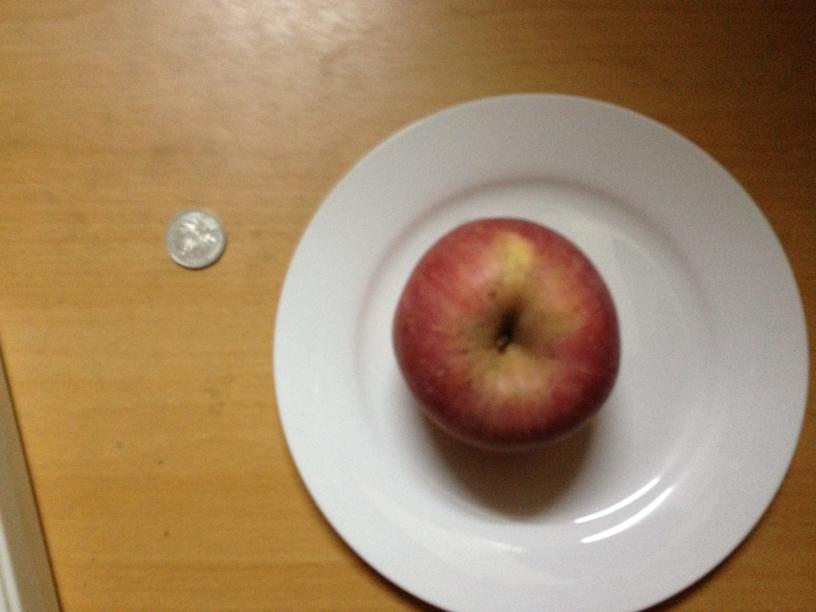apple: (394, 218, 622, 450)
coin: (164, 211, 225, 269)
